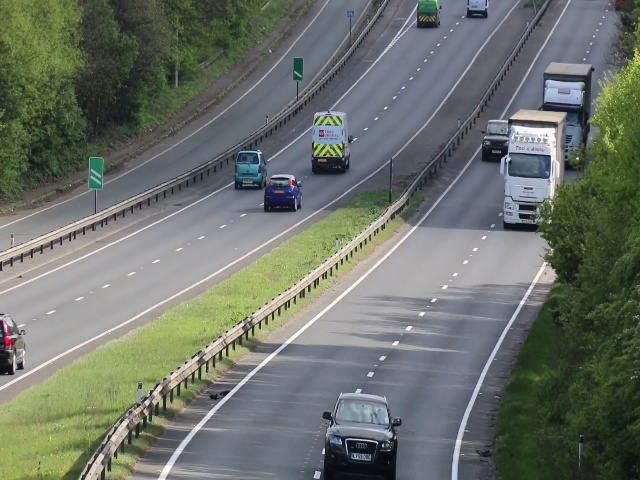car: (322, 390, 399, 480), (504, 147, 544, 230), (310, 110, 351, 176), (265, 174, 302, 213), (233, 147, 264, 192), (481, 121, 502, 163)
